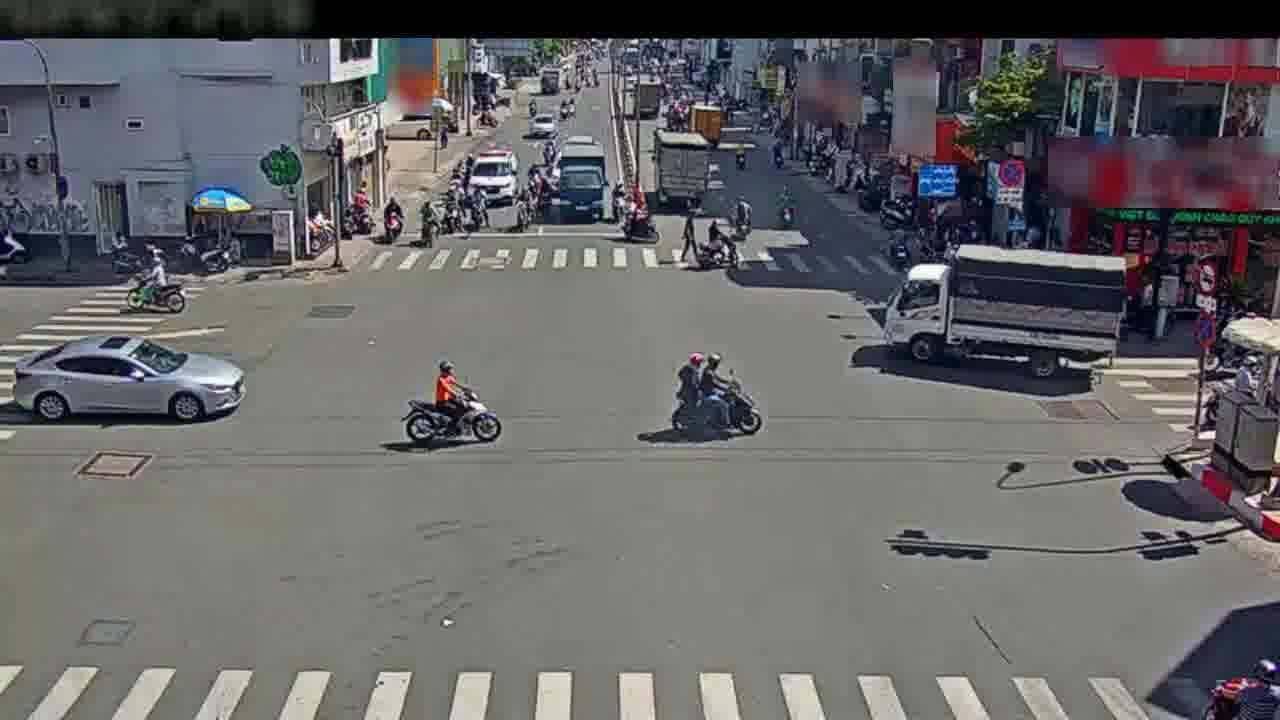car: (17, 332, 245, 432), (467, 148, 517, 205), (527, 105, 557, 140)
container: (891, 226, 1116, 399), (648, 121, 713, 211), (552, 133, 611, 218)
motorbike: (404, 358, 501, 449), (669, 351, 759, 441), (1201, 644, 1267, 720), (114, 251, 189, 317), (692, 222, 739, 275), (373, 193, 411, 251), (619, 195, 659, 245), (438, 186, 469, 242), (460, 184, 488, 241), (413, 193, 439, 253), (883, 224, 912, 272), (730, 188, 756, 241), (512, 187, 535, 236), (776, 180, 796, 233)
